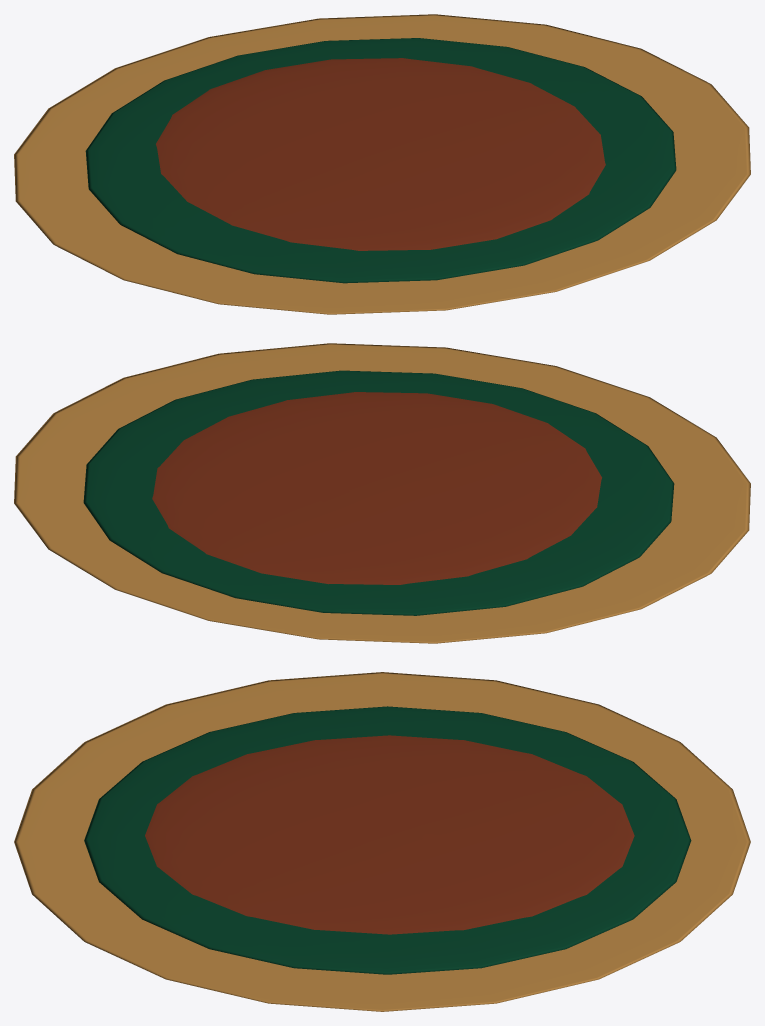
File: alfombra.obj
3 renders of one model, top to bottom at view 1: azimuth 30°, elevation 25°; view 2: azimuth 150°, elevation 25°; view 3: azimuth 270°, elevation 25°, orthographic. The views are drawn at different scales.
Visible parts, largest first — view 1: polySurface5; view 2: polySurface5; view 3: polySurface5.
Boxes of the visible parts, x1,y1,x2,y2 form: polySurface5: [14, 14, 750, 314]; polySurface5: [14, 343, 750, 643]; polySurface5: [14, 672, 750, 1011].
Bounding box in the file's own units: 7.26 × 0.2189 × 6.65.
3 materials, 3 textured.
